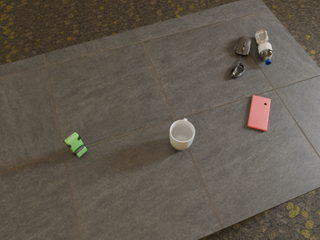bottle: (255, 29, 273, 65)
cup: (170, 119, 195, 150)
mouse: (234, 37, 251, 57)
phone: (248, 95, 271, 131)
toy_car: (63, 132, 87, 157)
